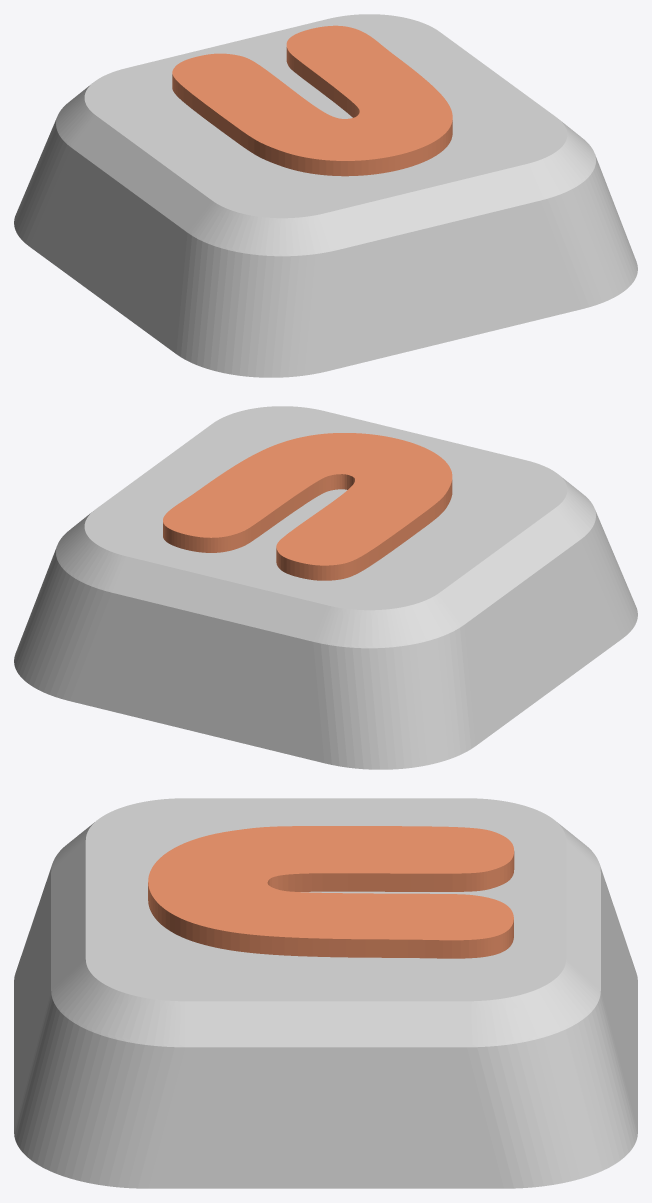
Rendered from cap-U.glb.
3 renders of one model, top to bottom at view 1: azimuth 30°, elevation 25°; view 2: azimuth 150°, elevation 25°; view 3: azimuth 270°, elevation 25°, orthographic. The views are drawn at different scales.
Parts seen in each view (by area): view 1: cap_0, glyph_1; view 2: cap_0, glyph_1; view 3: cap_0, glyph_1.
Part boxes in pixels (bbox=[...]): cap_0: bbox=[14, 14, 637, 377]; glyph_1: bbox=[172, 25, 452, 176]; cap_0: bbox=[14, 406, 637, 769]; glyph_1: bbox=[163, 433, 452, 580]; cap_0: bbox=[14, 798, 637, 1188]; glyph_1: bbox=[148, 826, 514, 958].
Size of the model in its own units: 18 by 5.59 by 18.
